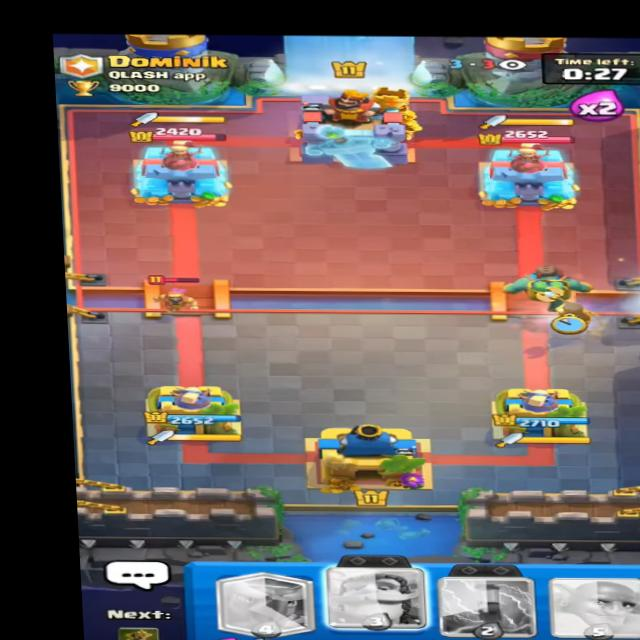wizard: (142, 274, 204, 312)
